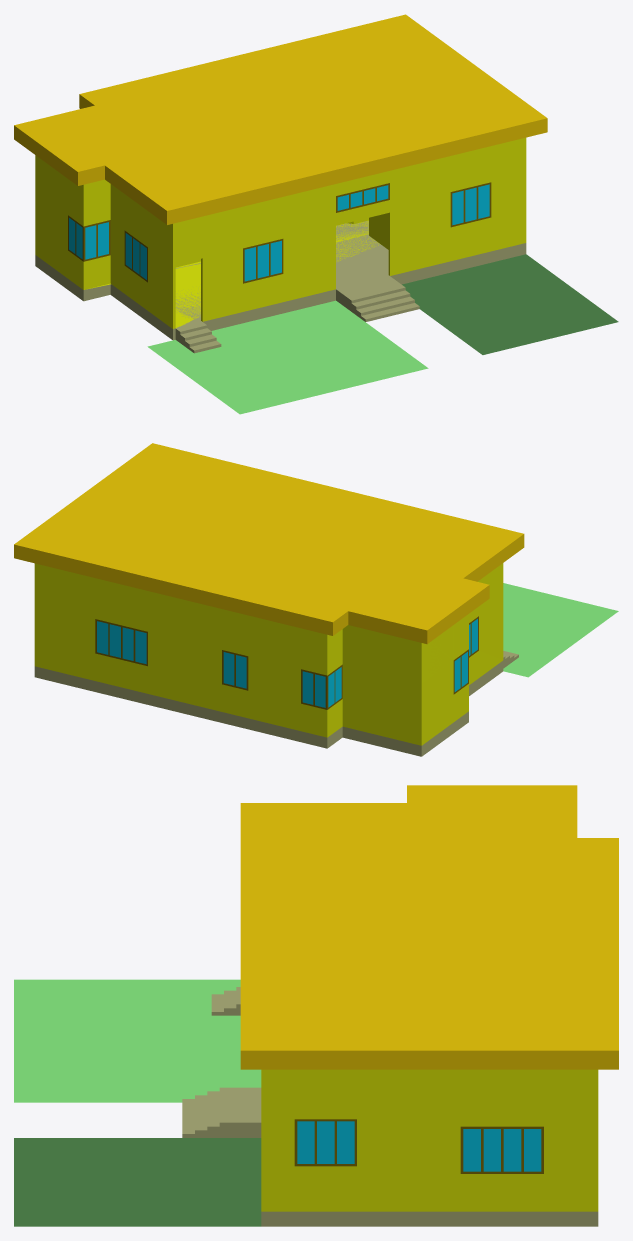
Rendered from HouseForSubstance.fbx.
3 views of the same model, one above another, from view 1: azimuth 30°, elevation 25°; view 2: azimuth 150°, elevation 25°; view 3: azimuth 270°, elevation 25° (orthographic). The views are drawn at different scales.
Parts seen in each view (by area): view 1: Roof, HouseFacade, FlatGarden, DenseGarden, Plinth; view 2: Roof, HouseFacade, FlatGarden, Plinth; view 3: Roof, HouseFacade, FlatGarden, DenseGarden, Plinth, polySurface31, polySurface29, polySurface27, polySurface33, polySurface25, polySurface23, polySurface21.
Part boxes in pixels (<box>): Roof: <box>14,14,547,224</box>; HouseFacade: <box>35,137,526,328</box>; FlatGarden: <box>147,300,428,414</box>; DenseGarden: <box>402,254,618,354</box>; Plinth: <box>35,221,526,353</box>; Roof: <box>14,443,524,643</box>; HouseFacade: <box>34,563,503,745</box>; FlatGarden: <box>503,583,618,677</box>; Plinth: <box>34,651,518,756</box>; Roof: <box>240,785,618,1069</box>; HouseFacade: <box>261,1069,598,1211</box>; FlatGarden: <box>14,979,261,1102</box>; DenseGarden: <box>14,1138,261,1226</box>; Plinth: <box>182,987,598,1226</box>; polySurface31: <box>503,1129,521,1171</box>; polySurface29: <box>483,1129,500,1171</box>; polySurface27: <box>463,1129,480,1171</box>; polySurface33: <box>524,1129,541,1171</box>; polySurface25: <box>337,1121,354,1163</box>; polySurface23: <box>317,1121,334,1163</box>; polySurface21: <box>297,1121,314,1163</box>.
Size of what is drawn, in the model's own units: 15.1 by 4.9 by 14.55.
